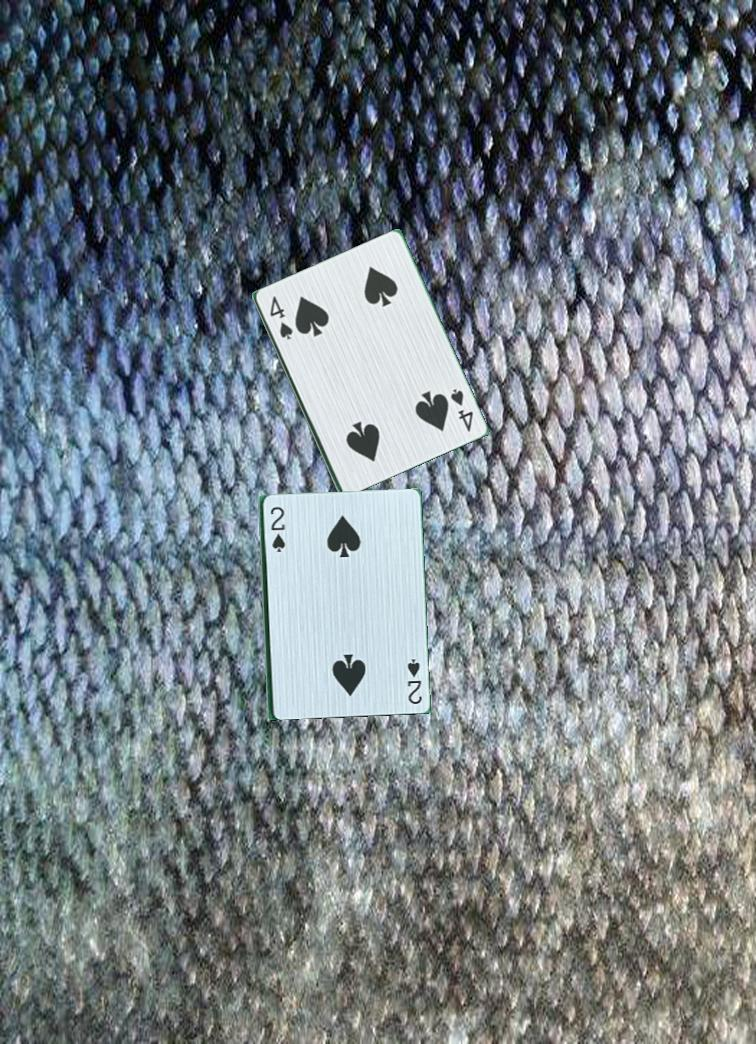2s: (402, 651, 425, 707), (267, 497, 285, 555)
4s: (442, 385, 476, 434), (266, 292, 295, 343)
